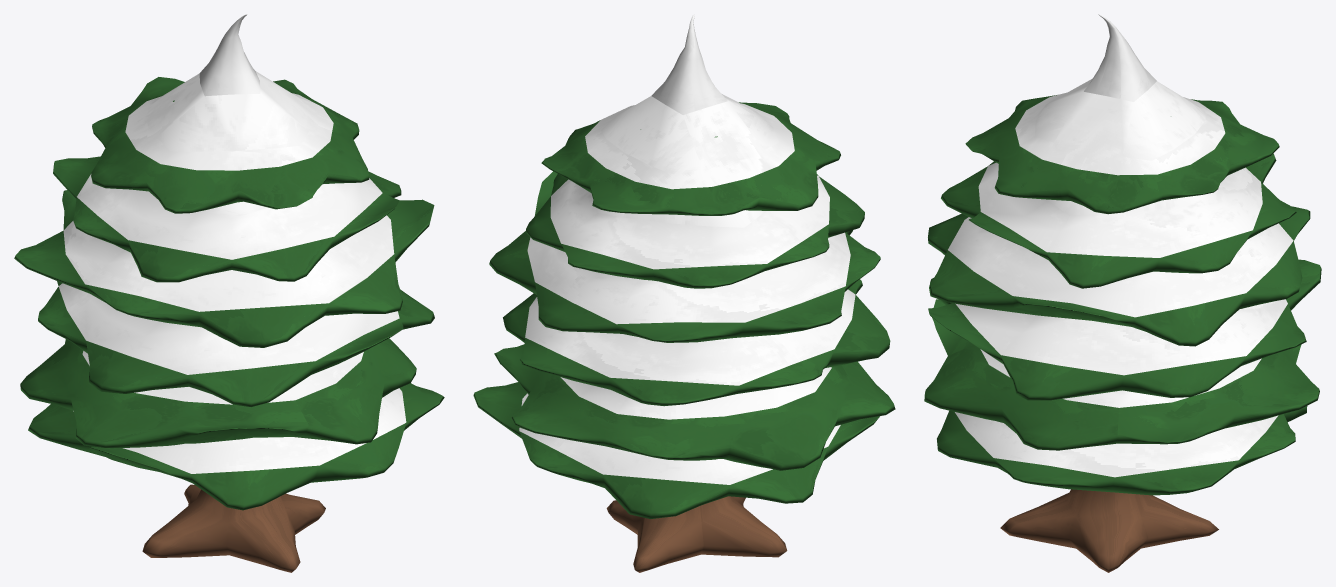
File: Tree9.fbx
3 views of the same model, side by side, from view 1: azimuth 30°, elevation 25°; view 2: azimuth 150°, elevation 25°; view 3: azimuth 270°, elevation 25° (orthographic).
Parts seen in each view (by area): view 1: Tree9; view 2: Tree9; view 3: Tree9.
Part boxes in pixels (left/top/right/bottom): Tree9: left=14, top=14, right=444, bottom=572; Tree9: left=473, top=14, right=895, bottom=572; Tree9: left=924, top=14, right=1321, bottom=572.
Size of the model in its own units: 8.73 by 12.17 by 8.36.
